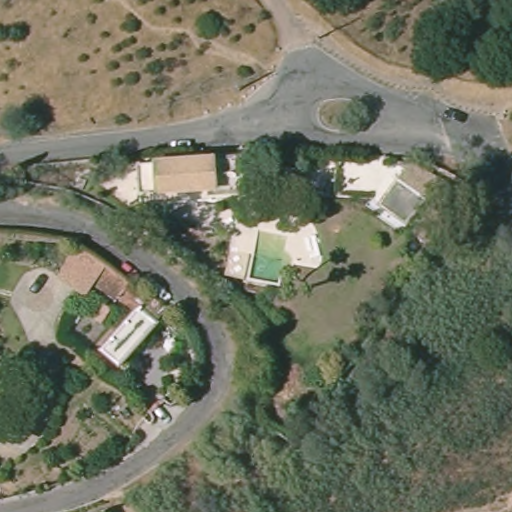pool: (249, 232, 295, 288)
